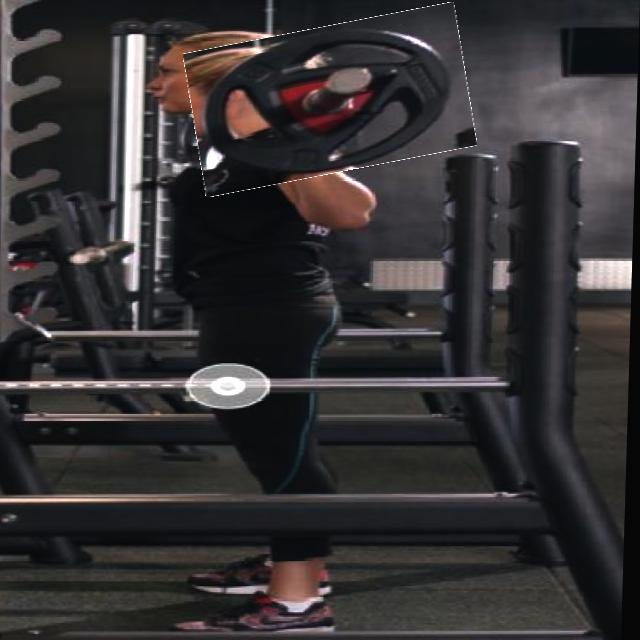barbell: (187, 16, 476, 186)
